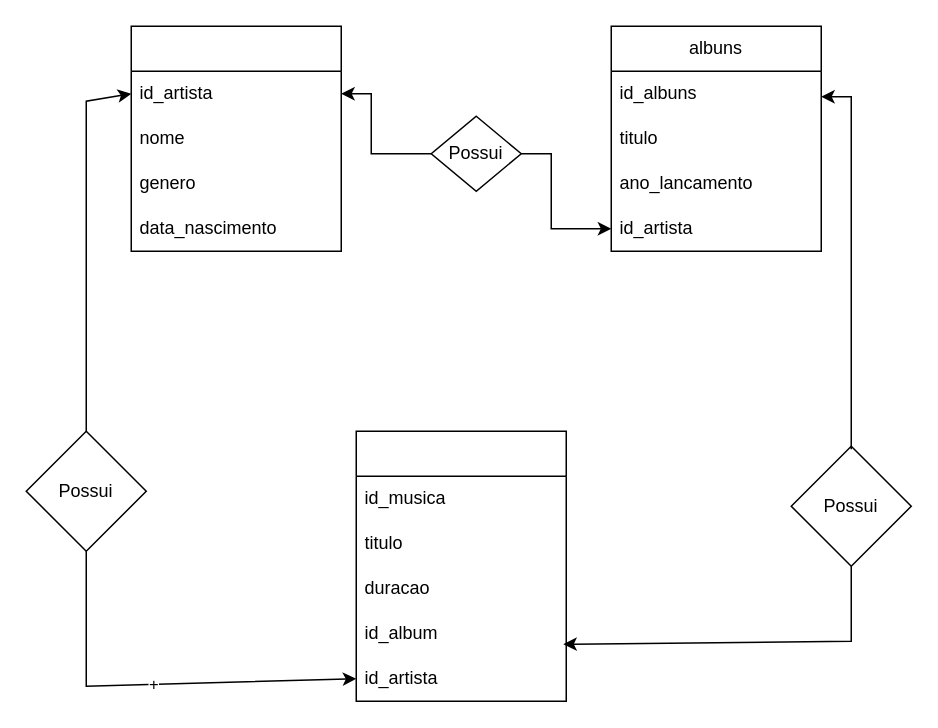
Image size: 938x728. Some labels were removed from this diagram. The box of each missing label's shape, as (x1, y1, x2, y2) in pixels:
artistas: (130, 25, 341, 251)
musicas: (355, 430, 566, 701)
